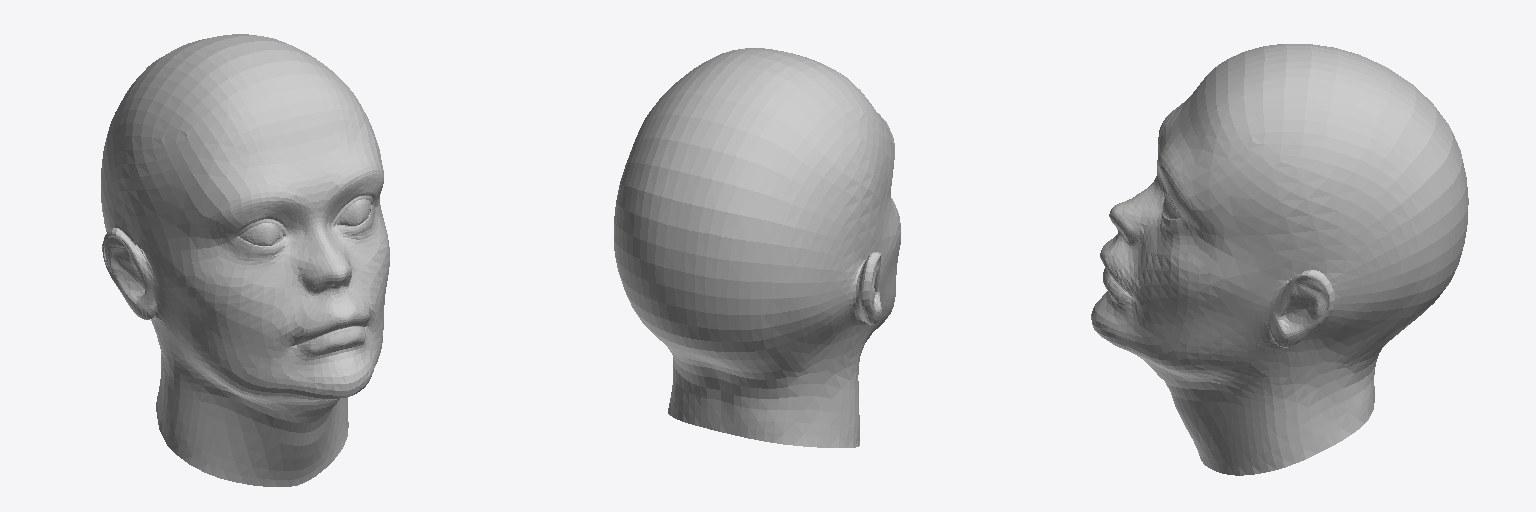
3 views of the same model, side by side, from view 1: azimuth 30°, elevation 25°; view 2: azimuth 150°, elevation 25°; view 3: azimuth 270°, elevation 25° (orthographic).
Parts seen in each view (by area): view 1: FaceGen; view 2: FaceGen; view 3: FaceGen.
Part boxes in pixels (left/top/right/bottom): FaceGen: left=101, top=34, right=389, bottom=486; FaceGen: left=614, top=48, right=900, bottom=447; FaceGen: left=1091, top=44, right=1468, bottom=475.
Size of the model in its own units: 189 by 282 by 240.